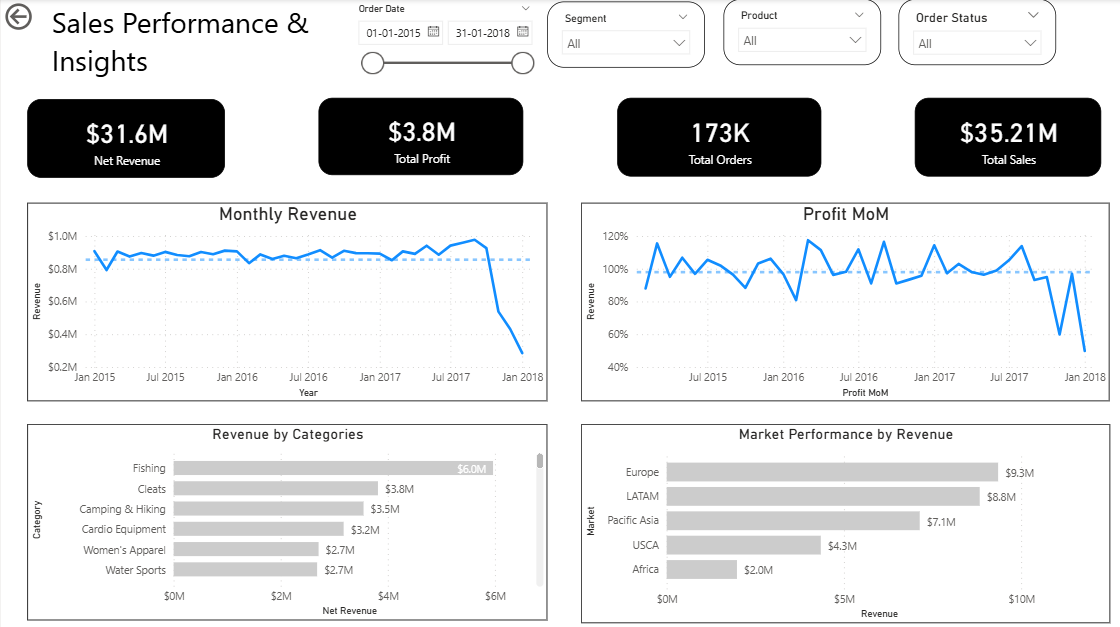

Layout of this report page (visuals, bound fields, positions):
{"tool":"powerbi","page":{"name":"Sales Dashboard","canvas":[1280,720],"ordinal":1},"visuals":[{"type":"card","fields":{"Values":["Measure Table.Gross Revenue"]},"box":[29.8,113.7,224.5,89.5],"z":0},{"type":"textbox","box":[52.6,0,363.8,112.3],"z":1000},{"type":"card","fields":{"Values":["Measure Table.Total Profit"]},"box":[360.9,112.3,233,88.1],"z":2000},{"type":"card","fields":{"Values":["Measure Table.Total Orders"]},"box":[700.5,112.3,231.6,89.5],"z":3000},{"type":"card","fields":{"Values":["Measure Table.Total Sales"]},"box":[1038.7,112.3,211.7,89.5],"z":4000},{"type":"lineChart","title":"Monthly Revenue","fields":{"Y":["Measure Table.Gross Revenue"],"Category":["Date.Start of Month.Variation.Date Hierarchy.Year","Date.Start of Month.Variation.Date Hierarchy.Month"]},"box":[29.8,232.2,591.1,225.9],"z":5000},{"type":"clusteredBarChart","title":"Market Performance by Revenue","fields":{"Category":["Transaction.MARKET"],"Y":["Measure Table.Gross Revenue"]},"box":[658.9,482.9,601.4,226.1],"z":6000},{"type":"clusteredBarChart","title":"Revenue by Categories","fields":{"Category":["Product.CATEGORY_NAME"],"Y":["Measure Table.Gross Revenue"]},"box":[29.8,483.1,591.1,223.1],"z":7000},{"type":"lineChart","title":"Profit MoM","fields":{"Category":["Date.Start of Month.Variation.Date Hierarchy.Year","Date.Start of Month.Variation.Date Hierarchy.Month"],"Y":["Measure Table.Profit MoM (%)"]},"box":[659.3,232.2,601.1,225.9],"z":8000},{"type":"slicer","fields":{"Values":["Transaction.ORDER_DATE_DATEORDERS"]},"box":[393.6,0,220.2,117.9],"z":9000},{"type":"actionButton","box":[0,0,100,40],"z":10000},{"type":"slicer","fields":{"Values":["Customer.CUSTOMER_SEGMENT"]},"box":[621,2.8,179,75.3],"z":11000},{"type":"slicer","fields":{"Values":["Product.PRODUCT_NAME"]},"box":[820.6,0,179,75.3],"z":12000},{"type":"slicer","fields":{"Values":["Transaction.ORDER_STATUS"]},"box":[1020.3,0,179,75.3],"z":13000}]}

Visuals, with their boxes in screenshot pixels (x1, y1, x2, y2), scaled from the page's 1280x720 canvas onto the 1120x627 screenshot:
card - Measure Table.Gross Revenue: left=26, top=99, right=223, bottom=177
textbox: left=46, top=0, right=364, bottom=98
card - Measure Table.Total Profit: left=316, top=98, right=520, bottom=175
card - Measure Table.Total Orders: left=613, top=98, right=816, bottom=176
card - Measure Table.Total Sales: left=909, top=98, right=1094, bottom=176
"Monthly Revenue" lineChart: left=26, top=202, right=543, bottom=399
"Market Performance by Revenue" clusteredBarChart: left=577, top=421, right=1103, bottom=617
"Revenue by Categories" clusteredBarChart: left=26, top=421, right=543, bottom=615
"Profit MoM" lineChart: left=577, top=202, right=1103, bottom=399
slicer - Transaction.ORDER_DATE_DATEORDERS: left=344, top=0, right=537, bottom=103
actionButton: left=0, top=0, right=88, bottom=35
slicer - Customer.CUSTOMER_SEGMENT: left=543, top=2, right=700, bottom=68
slicer - Product.PRODUCT_NAME: left=718, top=0, right=875, bottom=66
slicer - Transaction.ORDER_STATUS: left=893, top=0, right=1049, bottom=66
